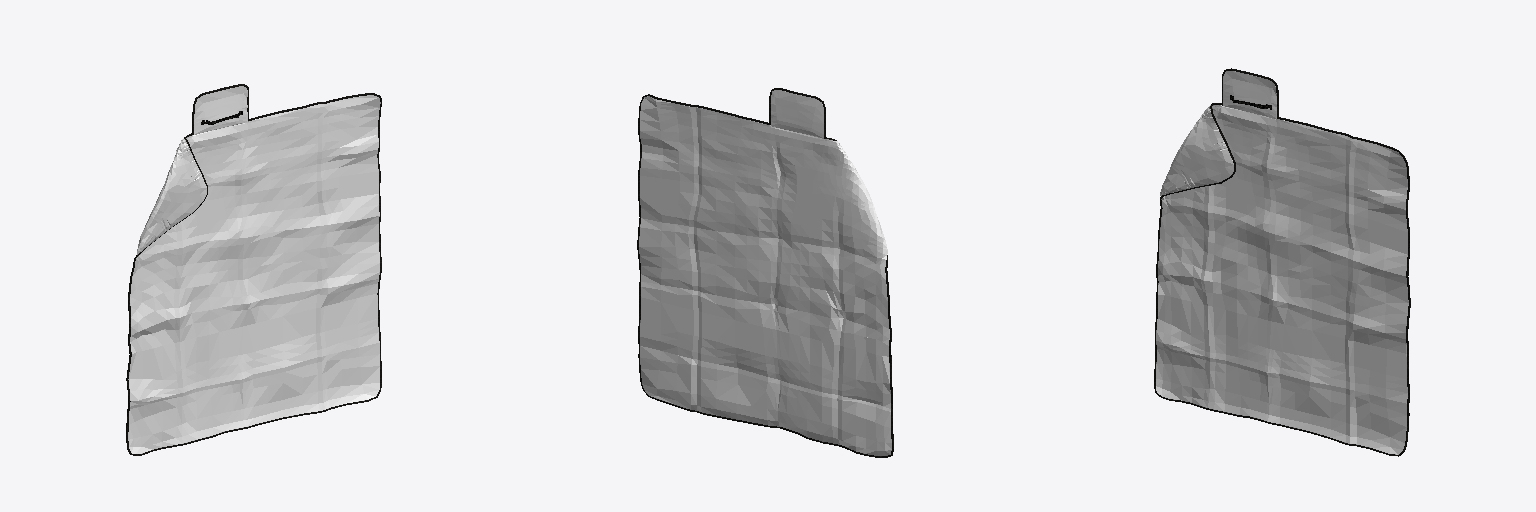
3 renders of one model, left to right at view 1: azimuth 30°, elevation 25°; view 2: azimuth 150°, elevation 25°; view 3: azimuth 330°, elevation 25°, orthographic.
Visible parts, largest first — view 1: Camco_red_and_white_picnic_blanket_pivot, contour_pivot; view 2: Camco_red_and_white_picnic_blanket_pivot, contour_pivot; view 3: Camco_red_and_white_picnic_blanket_pivot, contour_pivot.
Boxes of the visible parts, x1,y1,x2,y2 form: Camco_red_and_white_picnic_blanket_pivot: [128, 86, 380, 453]; contour_pivot: [126, 84, 381, 455]; Camco_red_and_white_picnic_blanket_pivot: [639, 90, 891, 455]; contour_pivot: [637, 88, 893, 457]; Camco_red_and_white_picnic_blanket_pivot: [1156, 71, 1408, 454]; contour_pivot: [1154, 68, 1410, 456].
Size of the model in its own units: 139 by 180 by 6.87.
Materials: 3 (2 with a texture image).